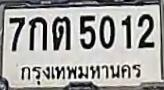0: (99, 14, 114, 48)
1: (121, 14, 130, 48)
2: (137, 13, 153, 47)
5: (79, 14, 95, 48)
7: (8, 16, 24, 51)
A01: (28, 16, 46, 50)
A21: (52, 16, 70, 50)
BKK: (17, 60, 145, 85)
